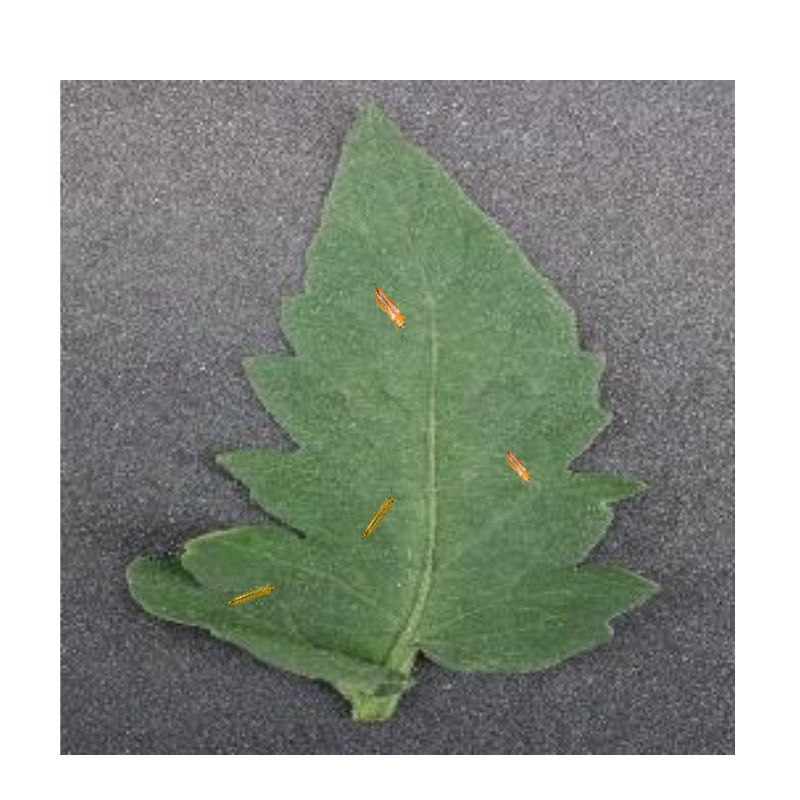thrips: (373, 285, 410, 337), (359, 492, 395, 544), (225, 579, 277, 604), (504, 446, 533, 485)
